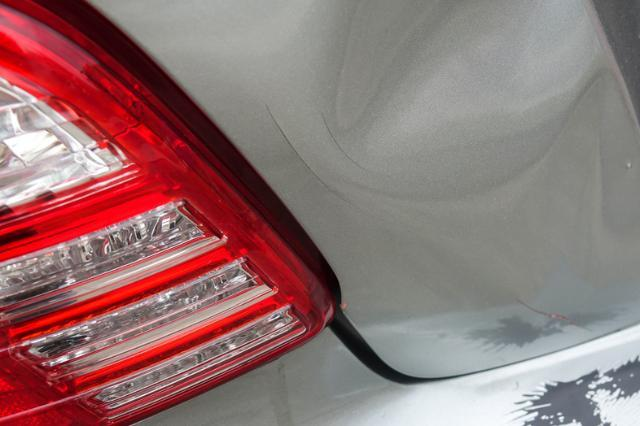Bumper: (496, 348, 640, 426)
